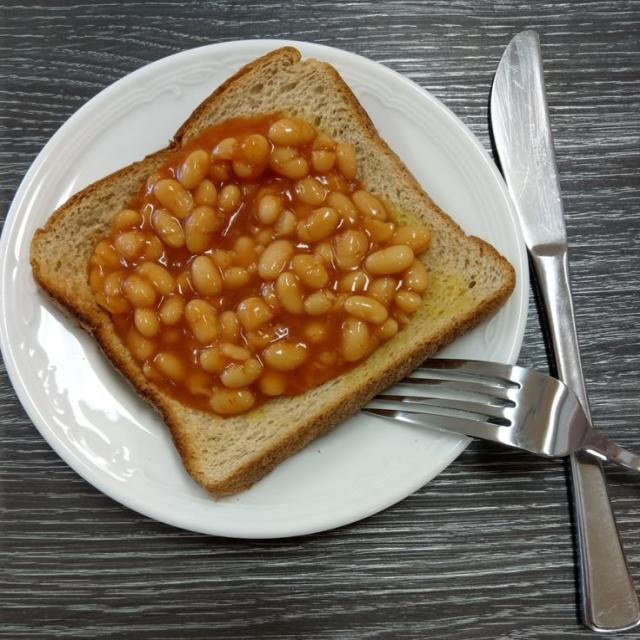beans: (88, 117, 430, 415), (154, 180, 193, 220), (297, 207, 339, 242), (185, 299, 218, 343), (365, 245, 413, 275), (258, 240, 293, 280), (268, 118, 315, 147), (334, 230, 368, 270), (263, 341, 306, 371), (178, 149, 210, 189), (341, 318, 370, 362), (220, 359, 262, 389), (270, 147, 309, 179), (138, 262, 175, 295), (292, 255, 329, 288), (152, 210, 184, 248), (191, 256, 222, 295), (344, 296, 387, 324), (237, 297, 273, 330), (276, 272, 304, 314), (210, 388, 255, 414), (123, 274, 157, 307), (391, 226, 431, 253), (352, 190, 386, 220), (154, 352, 186, 381), (295, 178, 326, 206), (403, 259, 428, 292), (134, 308, 160, 337), (257, 195, 282, 225), (336, 144, 357, 179), (159, 297, 185, 325), (217, 184, 242, 213), (304, 291, 334, 315)
sliced bread: (31, 49, 519, 497)
